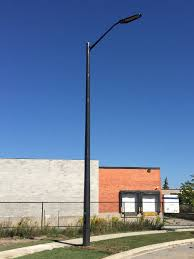light_pole: (82, 38, 98, 246)
